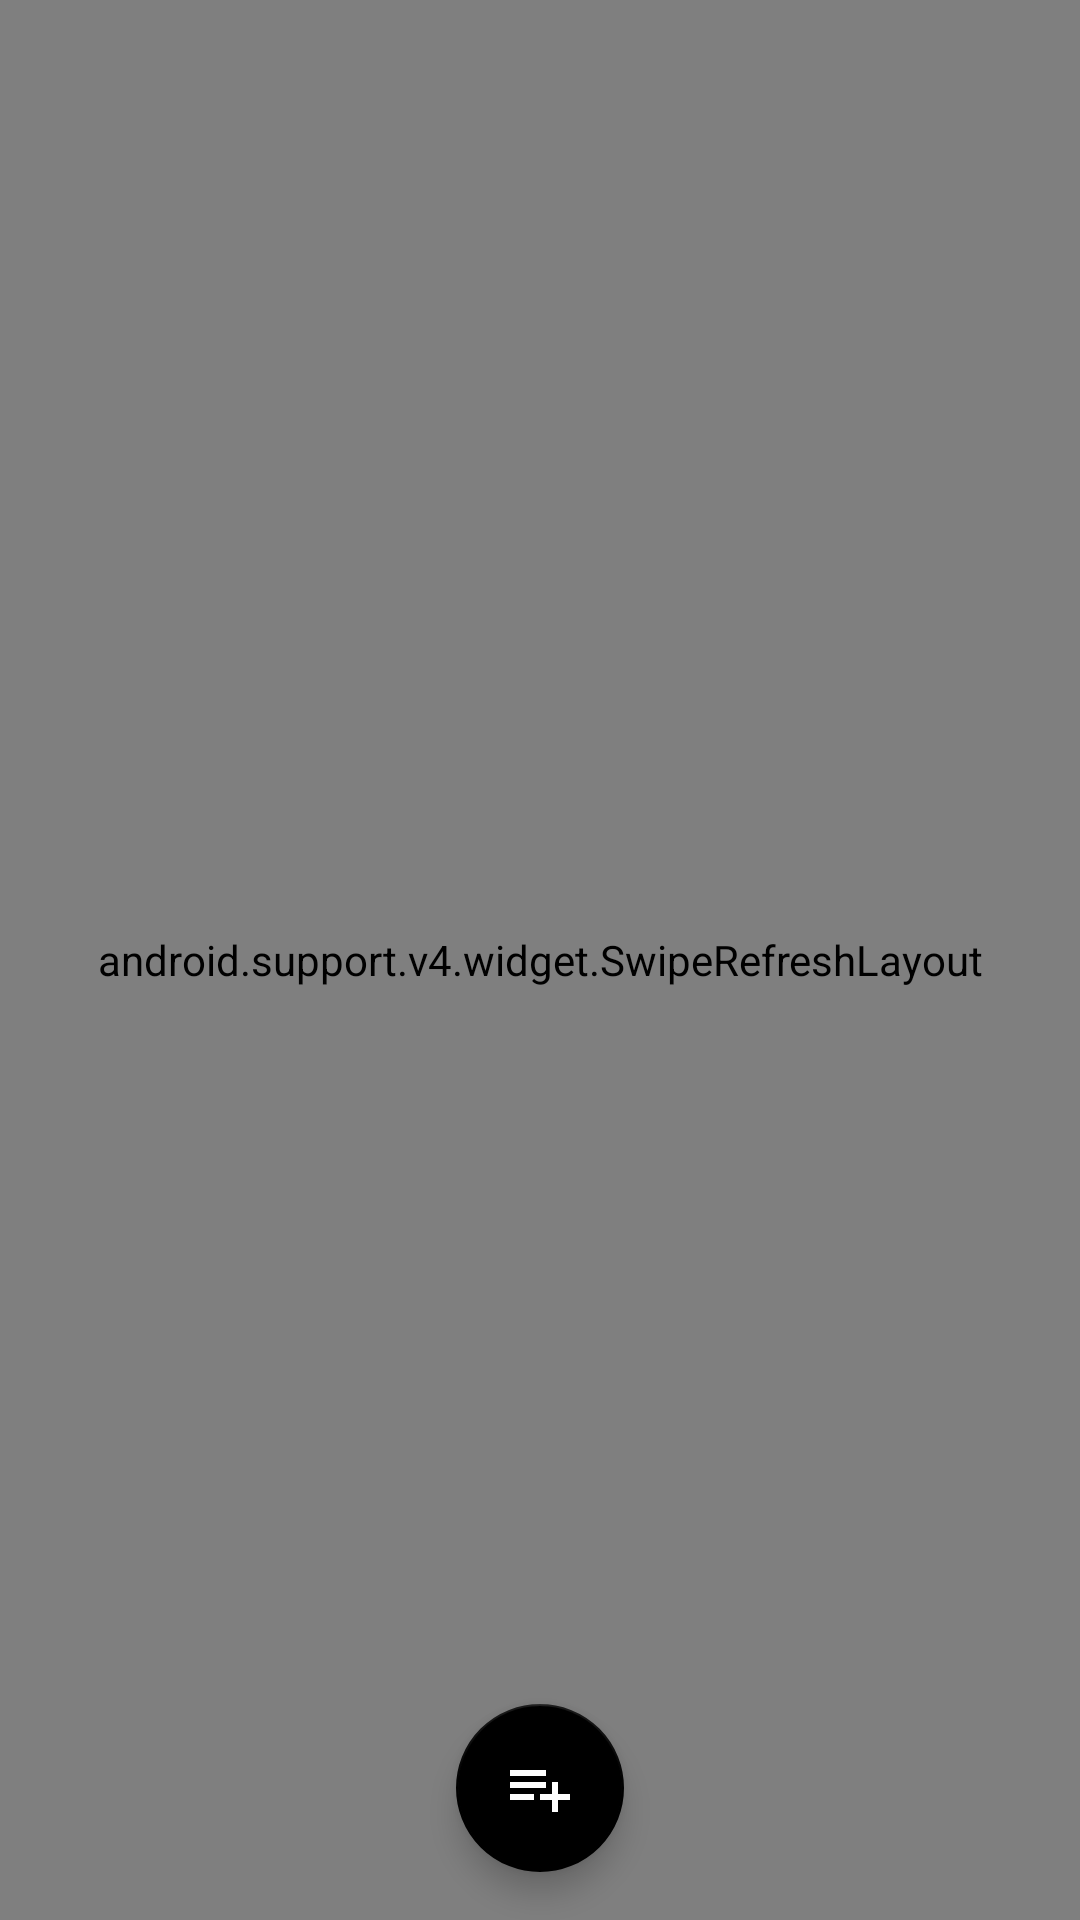

Where to tap for icons on this 1080*1920 app screen, as (x,y):
playlist plus: (540,1788)
